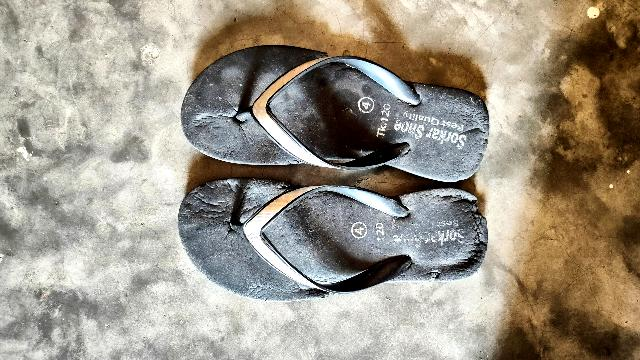sandal: (180, 31, 502, 206), (173, 170, 492, 303)
